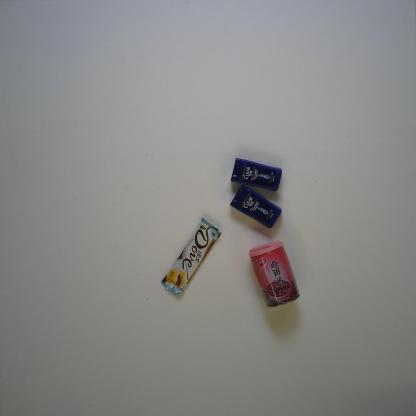Canned Food: (248, 240, 300, 308)
Chocolate: (161, 217, 222, 295)
Personal Hygiene: (229, 184, 282, 229), (230, 158, 283, 191)
